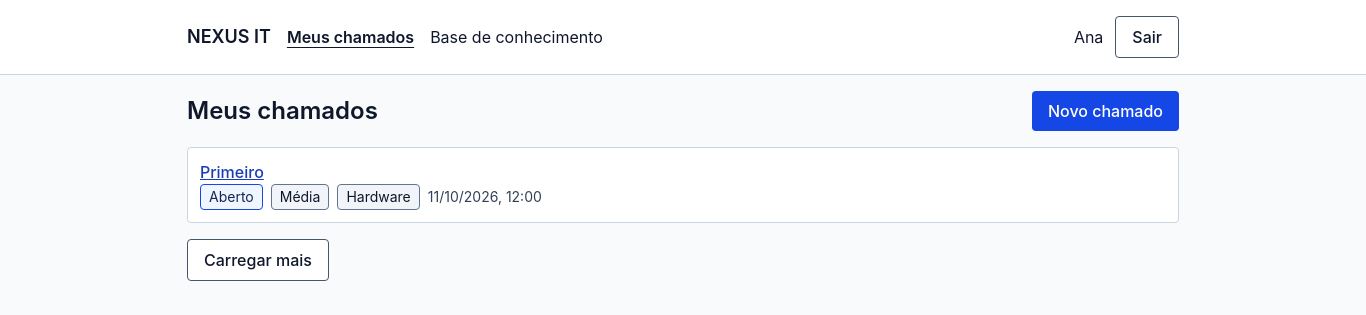
Test case: solicitante: lista e abertura (FR-03) › carrega mais usando o cursor devolvido pela API
Click the button "Carregar mais" at [258, 260], box [187, 239, 329, 281]
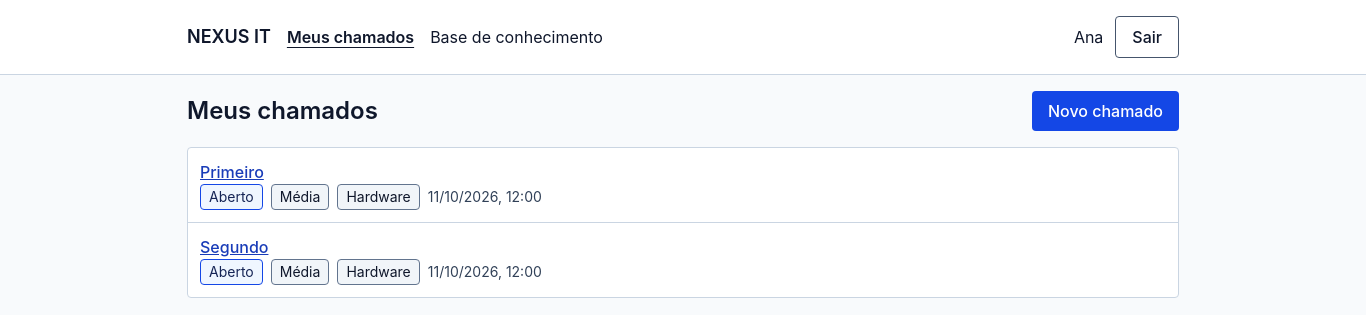
expect the link "Primeiro" is shown: met, box [200, 162, 264, 182]
expect the link "Segundo" is shown: met, box [200, 237, 268, 257]
expect the button "Carregar mais" is gone: met
